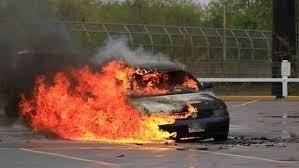fire: (18, 56, 200, 144)
